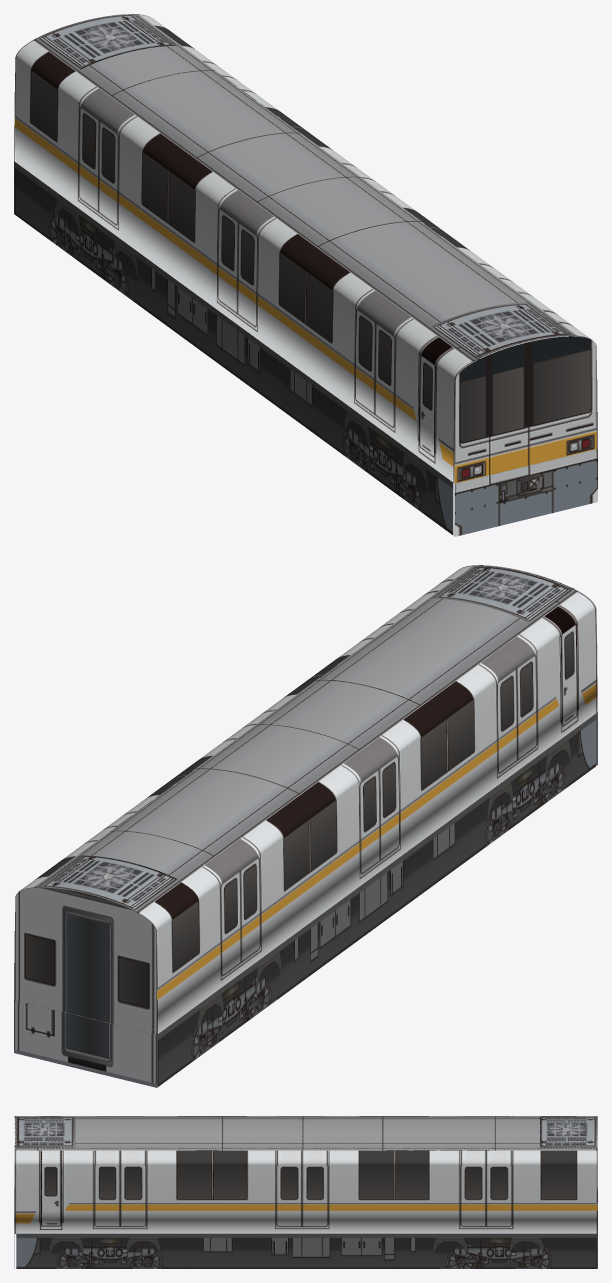
The model's file is car1.glb.
3 renders of one model, top to bottom at view 1: azimuth 30°, elevation 25°; view 2: azimuth 150°, elevation 25°; view 3: azimuth 270°, elevation 25°, orthographic. The views are drawn at different scales.
Parts seen in each view (by area): view 1: kumamotodentetu-01-car1; view 2: kumamotodentetu-01-car1; view 3: kumamotodentetu-01-car1.
Boxes of the visible parts, x1,y1,x2,y2 form: kumamotodentetu-01-car1: (14, 14, 597, 536); kumamotodentetu-01-car1: (14, 565, 597, 1087); kumamotodentetu-01-car1: (14, 1116, 597, 1268).
Bounding box in the file's own units: 3 × 3.54 × 16.03.
9 materials, 8 textured.
